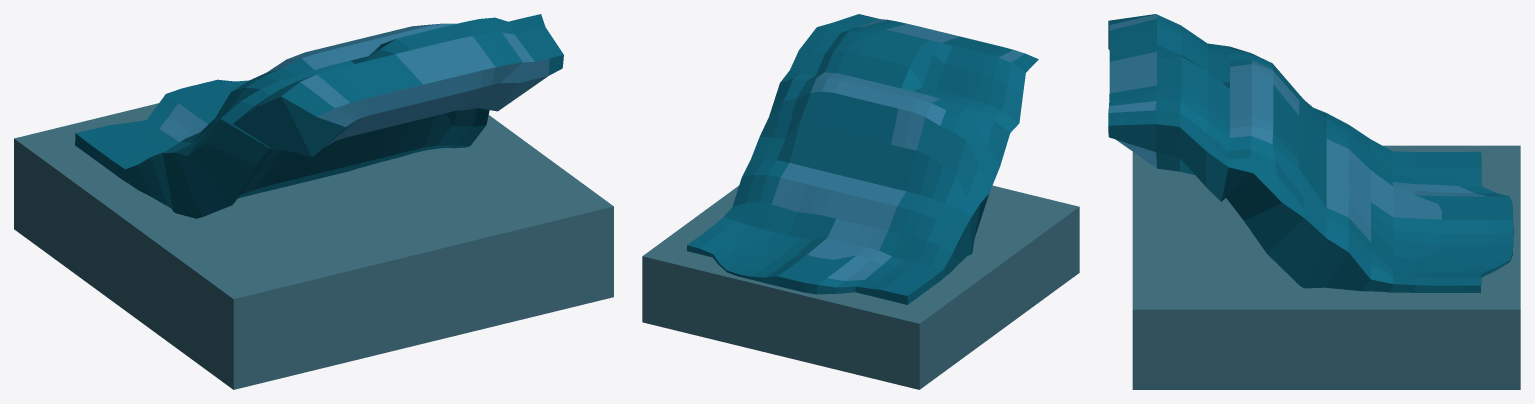
Rendered from Ola_agua.fbx.
The picture shows the model from 3 angles, left to right: view 1: azimuth 30°, elevation 25°; view 2: azimuth 150°, elevation 25°; view 3: azimuth 270°, elevation 25°; orthographic projection. The views are drawn at different scales.
Visible parts, largest first — view 1: Ola; view 2: Ola; view 3: Ola.
Part boxes in pixels (<box>): Ola: <box>14,14,613,389</box>; Ola: <box>642,14,1079,389</box>; Ola: <box>1108,14,1520,389</box>.
Bounding box in the file's own units: 4219 × 3017 × 4485.
